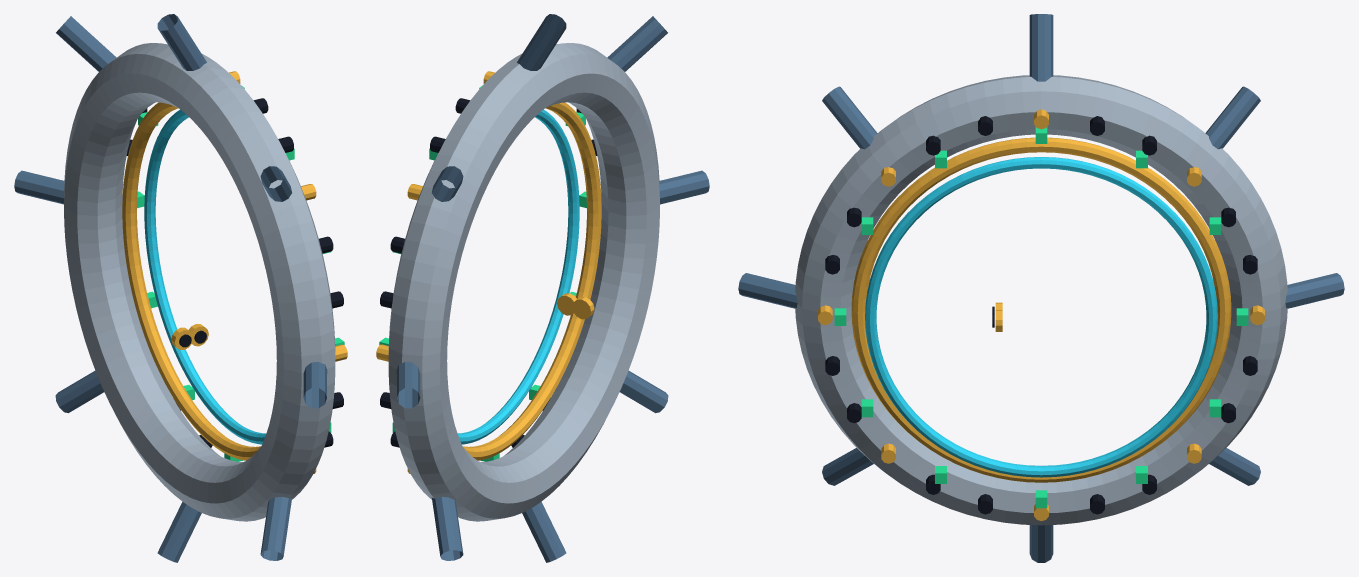
The model's file is 63_L85_HardDockStructuralLoadMonitor.fbx.
The picture shows the model from 3 angles, left to right: view 1: azimuth 30°, elevation 25°; view 2: azimuth 150°, elevation 25°; view 3: azimuth 270°, elevation 25°; orthographic projection.
Parts seen in each view (by area): view 1: L85_HardDockStructuralLoadMonitor; view 2: L85_HardDockStructuralLoadMonitor; view 3: L85_HardDockStructuralLoadMonitor.
Boxes of the visible parts, x1,y1,x2,y2 form: L85_HardDockStructuralLoadMonitor: (14, 14, 347, 562); L85_HardDockStructuralLoadMonitor: (376, 14, 709, 562); L85_HardDockStructuralLoadMonitor: (738, 14, 1344, 562).
Size of the model in its own units: 61.75 by 359 by 359.
